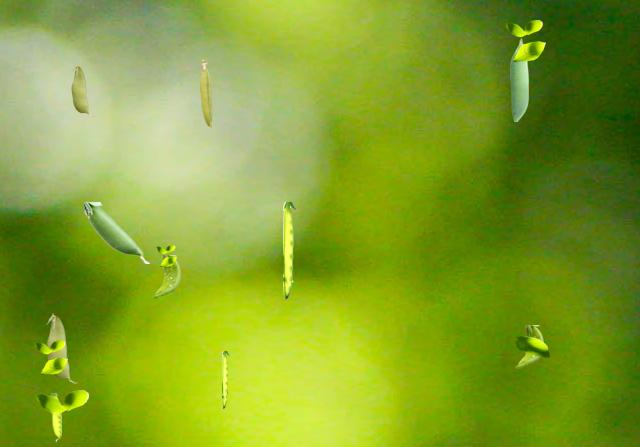pea: (84, 202, 148, 262), (46, 313, 76, 382), (510, 38, 527, 120), (283, 202, 297, 298), (152, 255, 179, 297), (515, 325, 542, 367), (71, 64, 93, 115), (200, 59, 211, 128), (51, 393, 60, 440), (222, 351, 229, 407)
